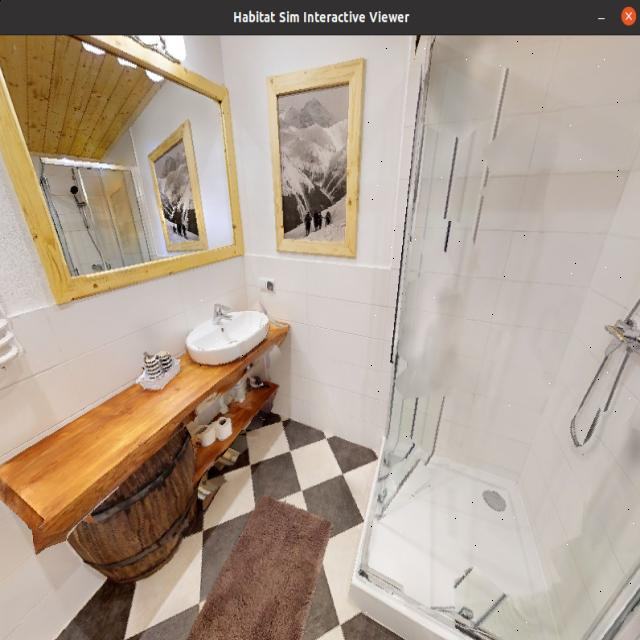shower: (346, 34, 640, 639)
sink: (180, 280, 278, 377)
